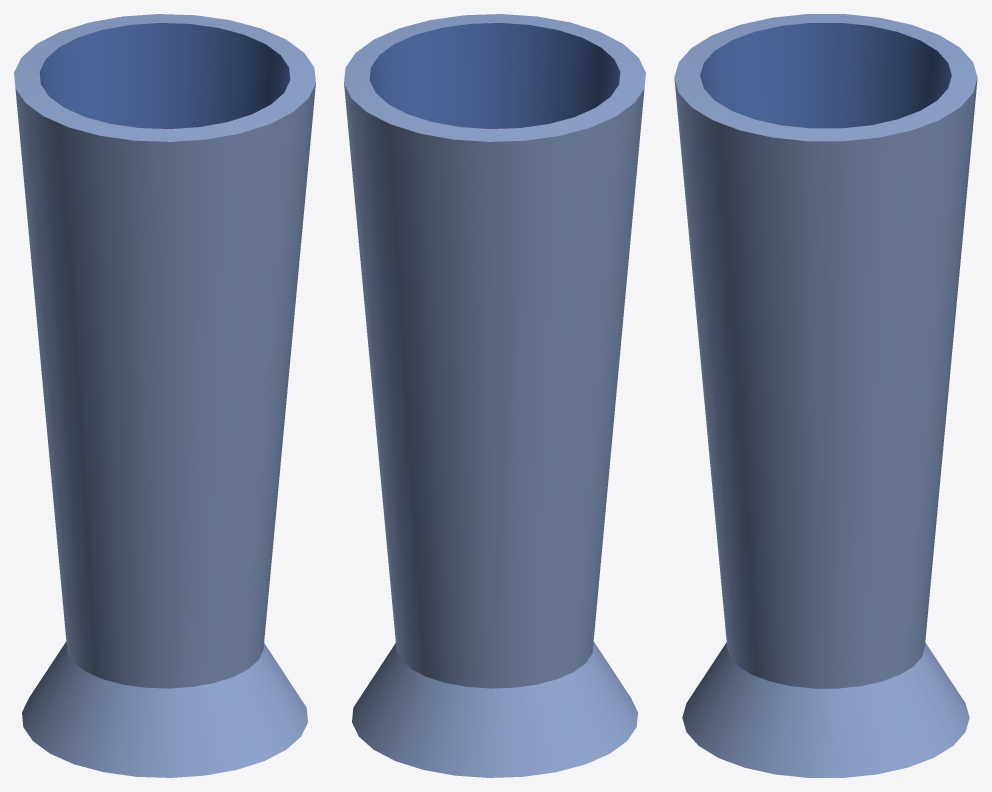
The model's file is Beer Cup B.fbx.
3 views of the same model, side by side, from view 1: azimuth 30°, elevation 25°; view 2: azimuth 150°, elevation 25°; view 3: azimuth 270°, elevation 25° (orthographic).
Visible parts, largest first — view 1: Beer Cup B; view 2: Beer Cup B; view 3: Beer Cup B.
Part boxes in pixels (bbox=[...]): Beer Cup B: bbox=[14, 14, 315, 777]; Beer Cup B: bbox=[344, 14, 645, 777]; Beer Cup B: bbox=[674, 14, 977, 777].
Size of the model in its own units: 0.2132 by 0.5016 by 0.2148.
